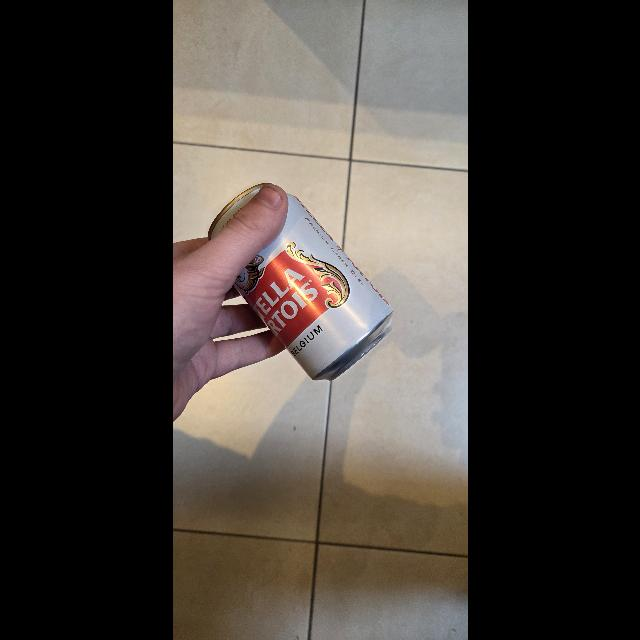Metal: (208, 182, 396, 382)
